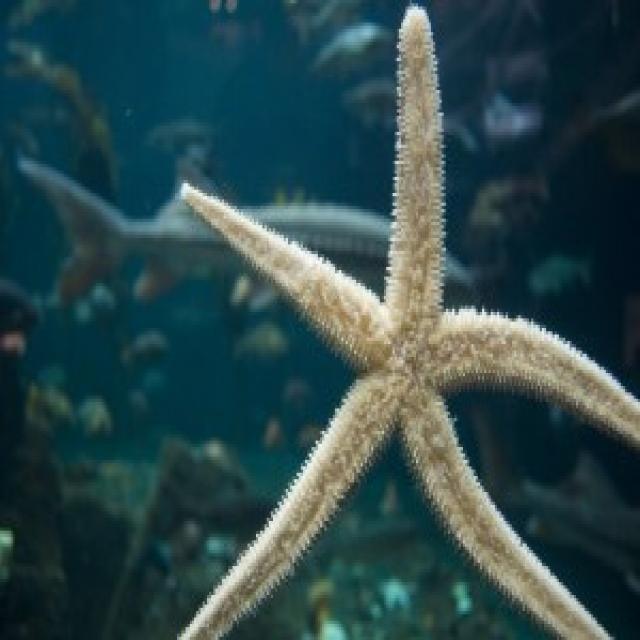Starfish: (168, 3, 640, 636)
